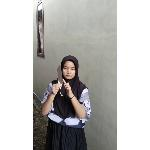Pisau: (53, 64, 69, 100)
